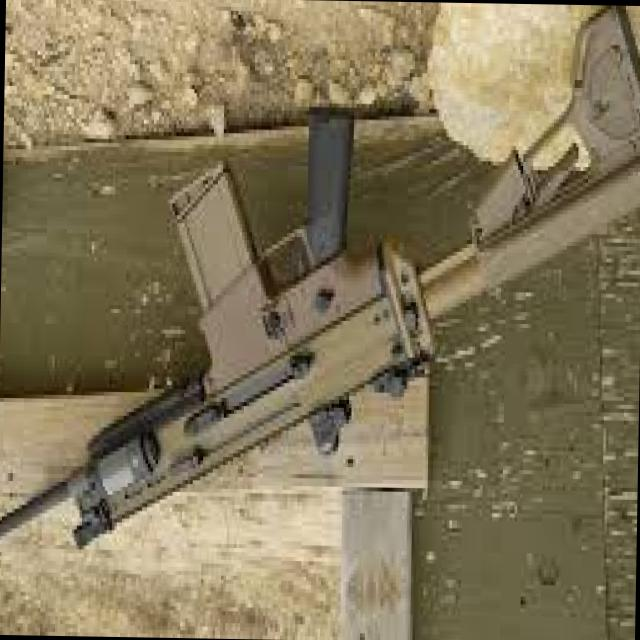Gun: (0, 37, 640, 578)
